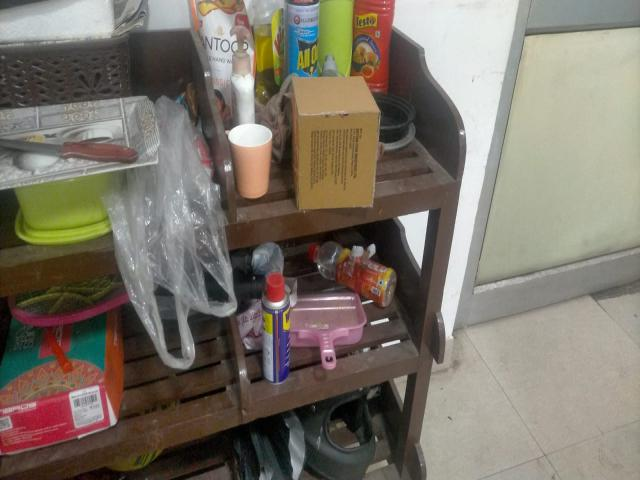bottle: (310, 243, 396, 310)
cup: (229, 123, 272, 198)
